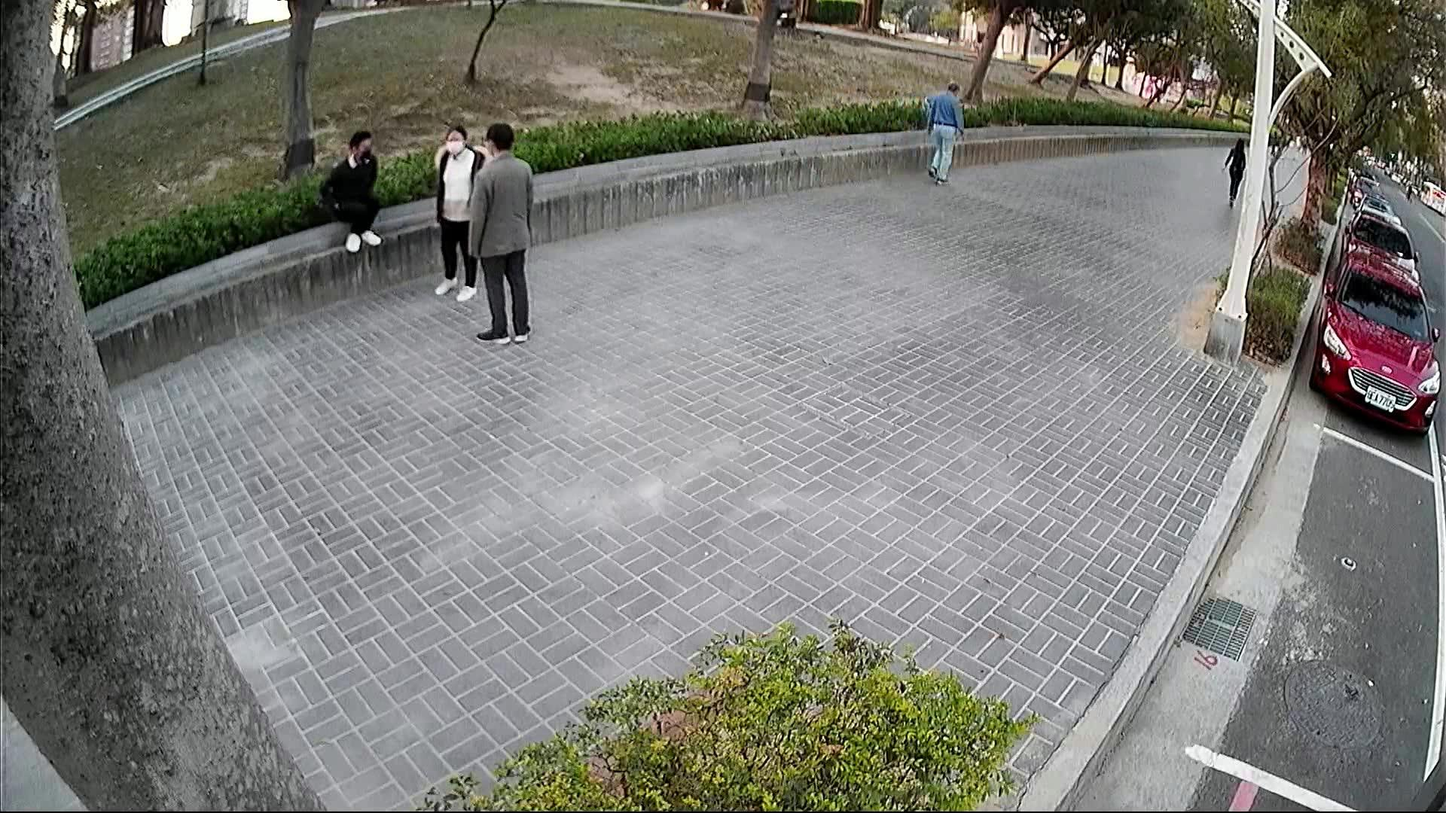person: (463, 113, 536, 343), (425, 117, 492, 303), (313, 123, 389, 253), (918, 76, 967, 186), (1221, 132, 1249, 211)
